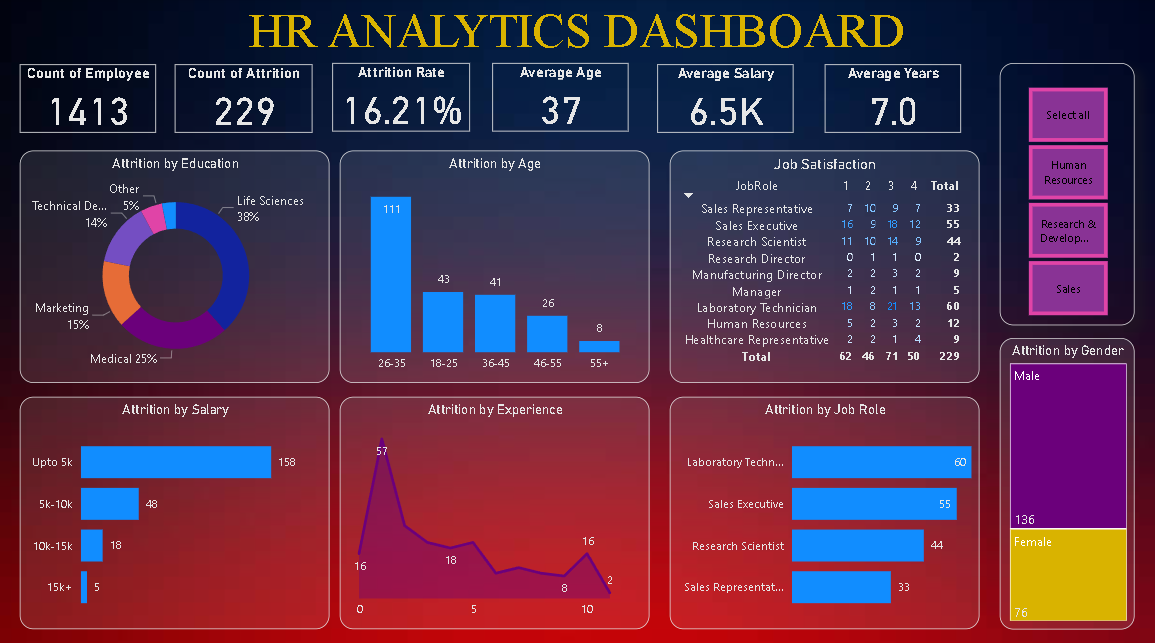

This screenshot's page, from the dashboard's own definition file:
{"tool":"powerbi","page":{"name":"Page 1","canvas":[1280,720],"ordinal":0},"visuals":[{"type":"card","title":"Count of Employee","fields":{"Values":["CountNonNull(HR_Analytics.EmpID)"]},"box":[26.1,73,149.6,75.5],"z":0},{"type":"card","title":"Count of Attrition","fields":{"Values":["Sum(HR_Analytics.AttritionCount)"]},"box":[196.2,73,150.9,75.5],"z":1000},{"type":"card","title":"Average Age","fields":{"Values":["Avg(HR_Analytics.Age)"]},"box":[545,71.4,149.6,75.5],"z":2000},{"type":"card","title":"Attrition Rate","fields":{"Values":["HR_Analytics.AttritionRate"]},"box":[369.4,71.4,150.9,75.5],"z":3000},{"type":"card","title":"Average Years","fields":{"Values":["Avg(HR_Analytics.YearsAtCompany)"]},"box":[910.1,72.7,149.6,75.5],"z":4000},{"type":"card","title":"Average Salary","fields":{"Values":["Avg(HR_Analytics.MonthlyIncome)"]},"box":[726.2,72.7,149.6,75.5],"z":5000},{"type":"donutChart","title":"Attrition by Education","fields":{"Category":["HR_Analytics.EducationField"],"Y":["Sum(HR_Analytics.AttritionCount)"]},"box":[26.1,167.4,340.3,255.2],"z":6000},{"type":"columnChart","title":"Attrition by Age","fields":{"Category":["HR_Analytics.AgeGroup"],"Y":["Sum(HR_Analytics.AttritionCount)"]},"box":[377.4,167.4,340.3,255.2],"z":7000},{"type":"pivotTable","title":"Job Satisfaction","fields":{"Rows":["HR_Analytics.JobRole"],"Columns":["HR_Analytics.JobSatisfaction"],"Values":["Sum(HR_Analytics.AttritionCount)"]},"box":[739.6,167.4,340.3,255.2],"z":8000},{"type":"barChart","title":"Attrition by Salary","fields":{"Category":["HR_Analytics.SalarySlab"],"Y":["Sum(HR_Analytics.AttritionCount)"]},"box":[26.1,437.7,340.3,255.2],"z":9000},{"type":"barChart","title":"Attrition by Job Role","fields":{"Category":["HR_Analytics.JobRole"],"Y":["Sum(HR_Analytics.AttritionCount)"]},"box":[739.6,437.7,340.3,255.2],"z":10000},{"type":"areaChart","title":"Attrition by Experience","fields":{"Category":["HR_Analytics.YearsAtCompany"],"Y":["Sum(HR_Analytics.AttritionCount)"]},"box":[377.4,437.7,340.3,255.2],"z":11000},{"type":"treemap","title":"Attrition by Gender","fields":{"Group":["HR_Analytics.Gender"],"Values":["Sum(HR_Analytics.AttritionCount)"]},"box":[1101.9,373.2,148.2,319.7],"z":12000},{"type":"slicer","fields":{"Values":["HR_Analytics.Department"]},"box":[1101.9,71.4,148.2,288.2],"z":13000},{"type":"textbox","box":[26.1,0,1224,87.8],"z":14000}]}

Visuals, with their boxes in screenshot pixels (x1, y1, x2, y2), scaled from the page's 1280x720 canvas onto the 1155x643 screenshot:
"Count of Employee" card: (left=24, top=65, right=159, bottom=133)
"Count of Attrition" card: (left=177, top=65, right=313, bottom=133)
"Average Age" card: (left=492, top=64, right=627, bottom=131)
"Attrition Rate" card: (left=333, top=64, right=469, bottom=131)
"Average Years" card: (left=821, top=65, right=956, bottom=132)
"Average Salary" card: (left=655, top=65, right=790, bottom=132)
"Attrition by Education" donutChart: (left=24, top=149, right=331, bottom=377)
"Attrition by Age" columnChart: (left=341, top=149, right=648, bottom=377)
"Job Satisfaction" pivotTable: (left=667, top=149, right=974, bottom=377)
"Attrition by Salary" barChart: (left=24, top=391, right=331, bottom=619)
"Attrition by Job Role" barChart: (left=667, top=391, right=974, bottom=619)
"Attrition by Experience" areaChart: (left=341, top=391, right=648, bottom=619)
"Attrition by Gender" treemap: (left=994, top=333, right=1128, bottom=619)
slicer - HR_Analytics.Department: (left=994, top=64, right=1128, bottom=321)
textbox: (left=24, top=0, right=1128, bottom=78)
